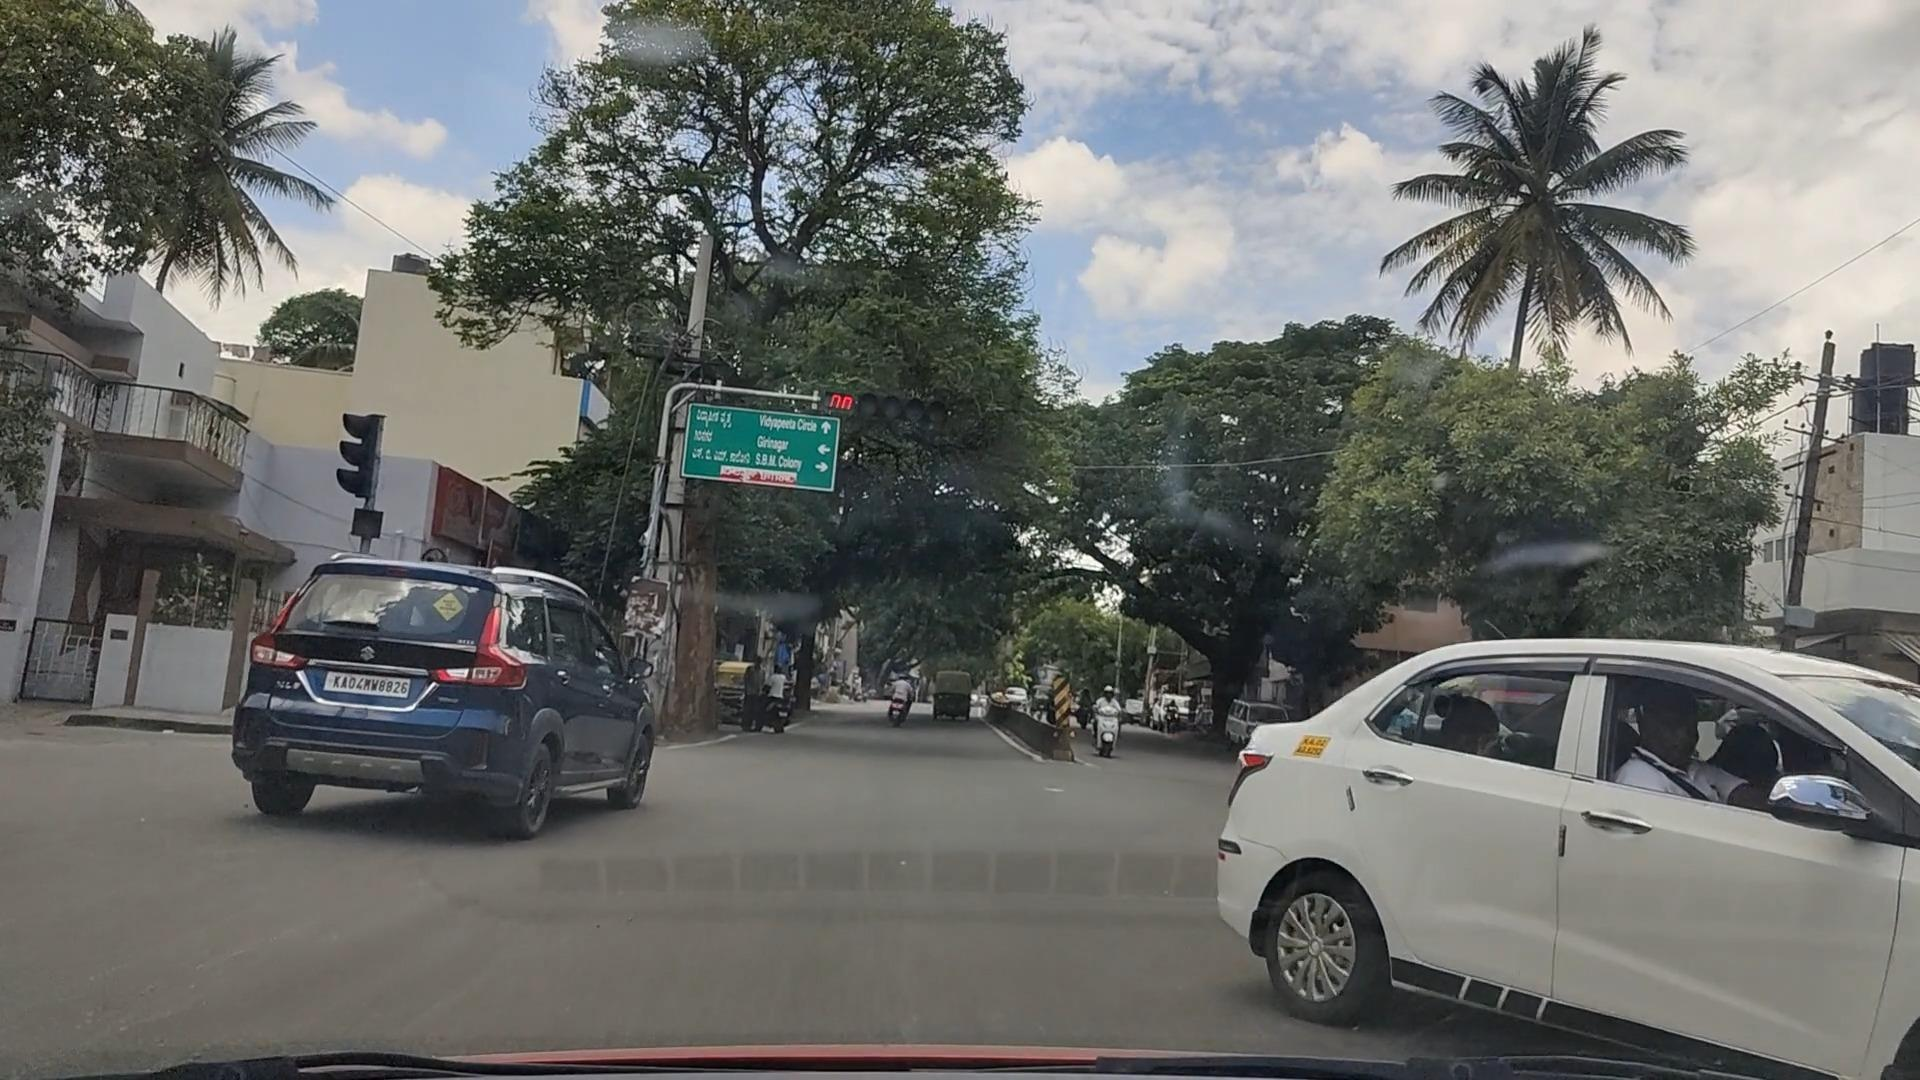LMV: (1208, 638, 1920, 1080), (223, 502, 659, 815)
